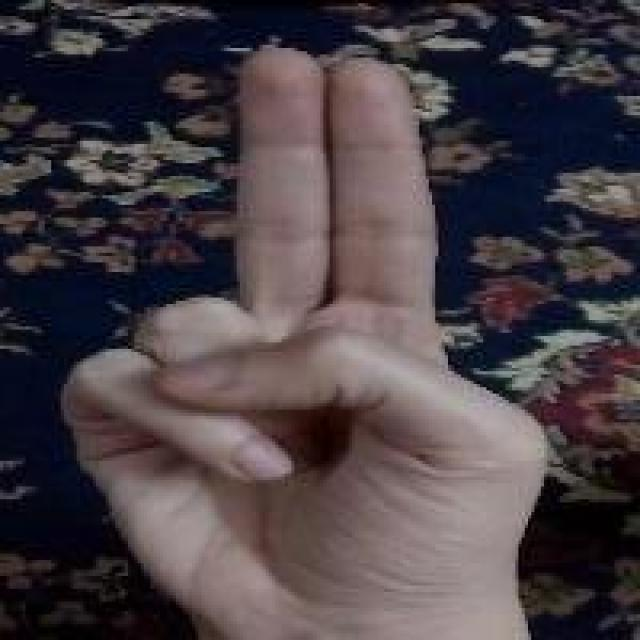U: (51, 37, 554, 597)
